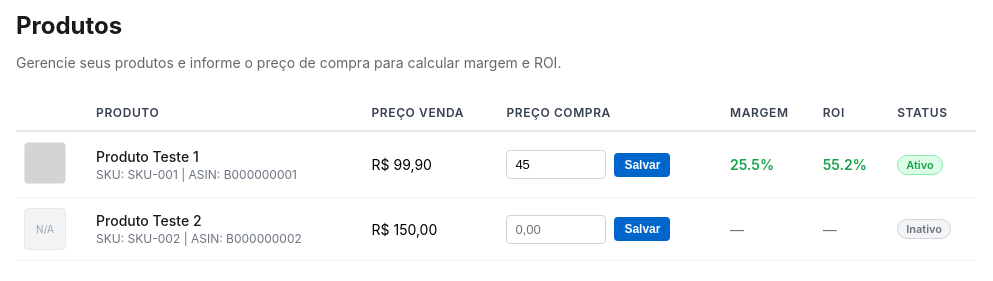
Test: ProductsPage › validates cost price cannot be empty
This screenshot has width=993, height=281.
Check: the text "Produto Teste 2" is shown, box top-left (96, 212), bottom-right (202, 229)
Click save for product 2 without entering a value
Step 1. Click the button "Salvar" in the row of "N/A" → click(642, 229), box top-left (614, 217), bottom-right (670, 241)
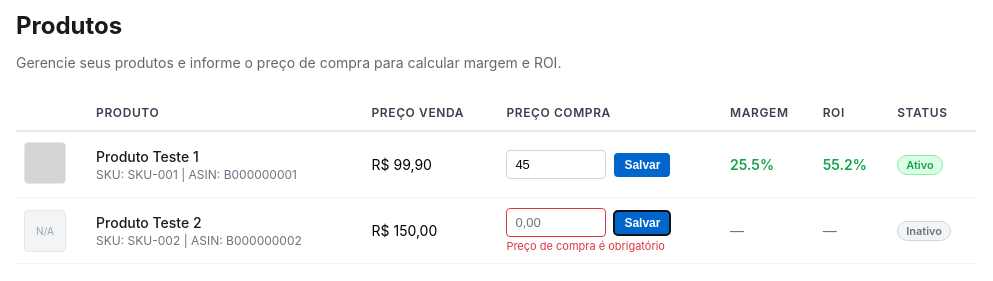
Check: the text "Preço de compra é obrigatório" is shown, box top-left (506, 239), bottom-right (665, 253)
